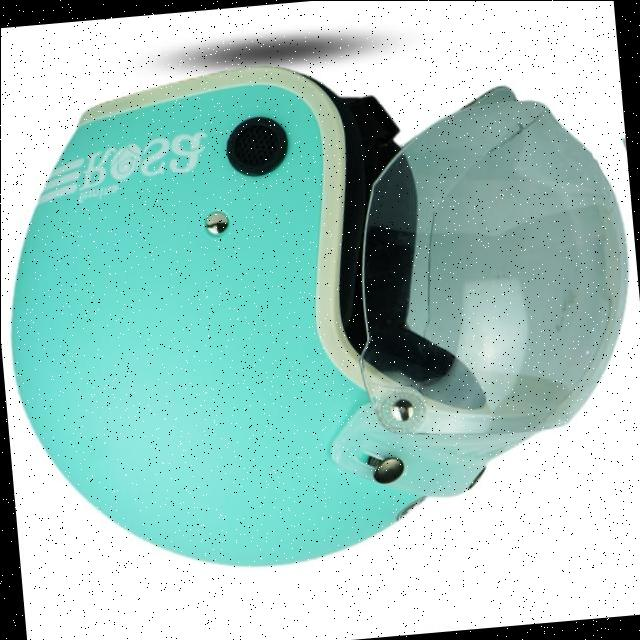Helm: (0, 23, 640, 592)
